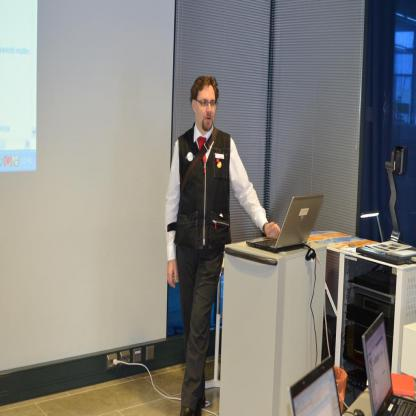board: (362, 311, 416, 415), (245, 190, 323, 251), (288, 358, 341, 416)
